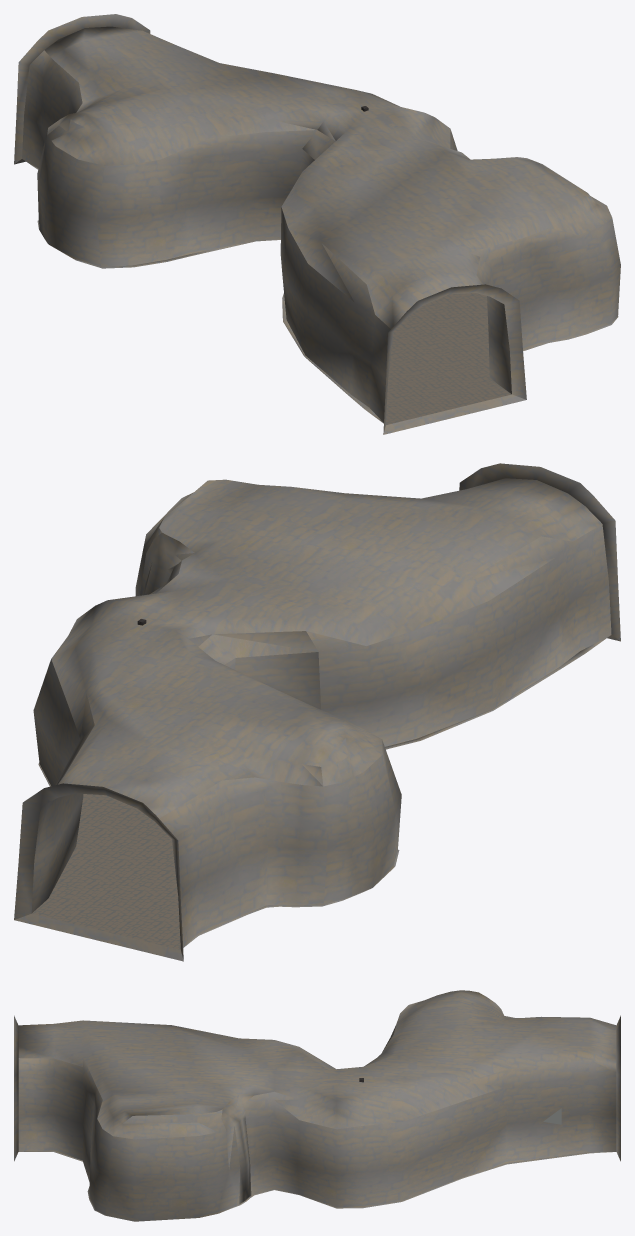
Rendered from R_Tun2.glb.
The picture shows the model from 3 angles, top to bottom: view 1: azimuth 30°, elevation 25°; view 2: azimuth 150°, elevation 25°; view 3: azimuth 270°, elevation 25°; orthographic projection. The views are drawn at different scales.
Parts seen in each view (by area): view 1: _R_Tun2; view 2: _R_Tun2; view 3: _R_Tun2.
Part boxes in pixels (left/top/right/bottom): _R_Tun2: left=14, top=14, right=620, bottom=434; _R_Tun2: left=14, top=463, right=620, bottom=961; _R_Tun2: left=14, top=990, right=620, bottom=1221.
Bounding box in the file's own units: 11.74 × 3.97 × 20.3.
4 materials, 4 textured.
